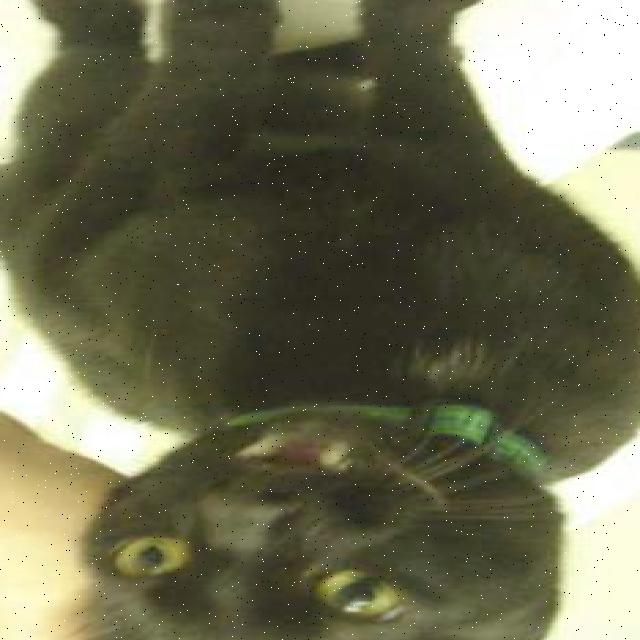Cat: (38, 393, 587, 640)
